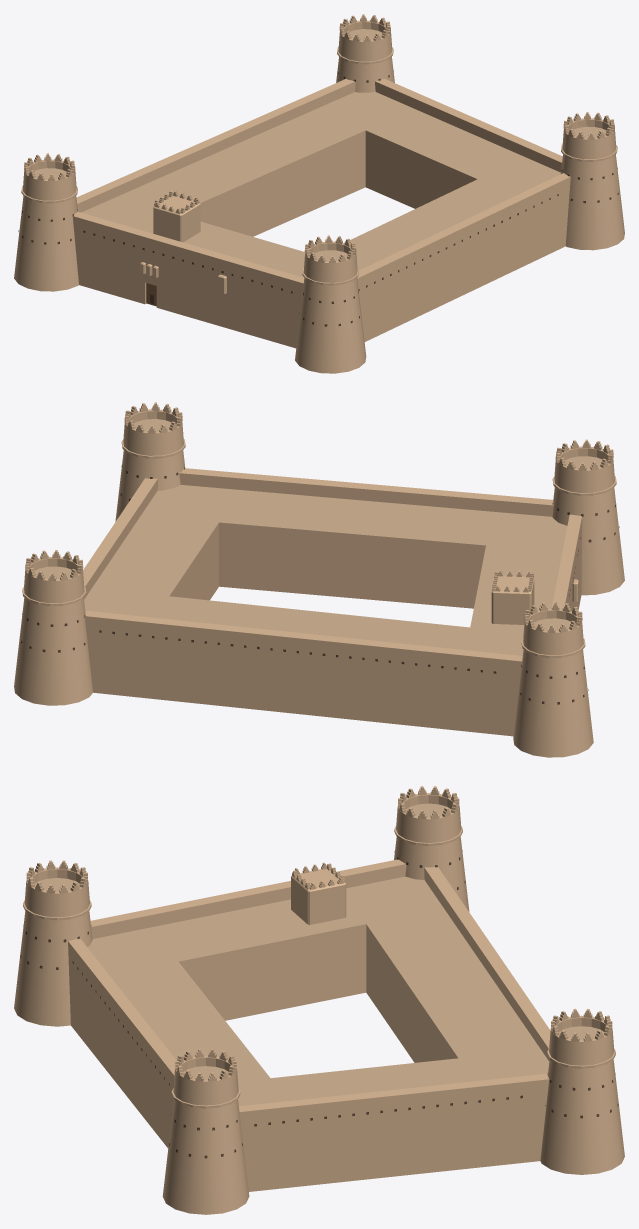
The model's file is riyadh-masmak-fortress.detail.glb.
3 renders of one model, top to bottom at view 1: azimuth 30°, elevation 25°; view 2: azimuth 150°, elevation 25°; view 3: azimuth 270°, elevation 25°, orthographic. The views are drawn at different scales.
Parts seen in each view (by area): view 1: Masmak Fortress; view 2: Masmak Fortress; view 3: Masmak Fortress.
Boxes of the visible parts, <box> form: Masmak Fortress: <box>14,14,624,373</box>; Masmak Fortress: <box>14,402,624,757</box>; Masmak Fortress: <box>14,786,624,1214</box>.
Bounding box in the file's own units: 83.3 × 17.55 × 71.9.
